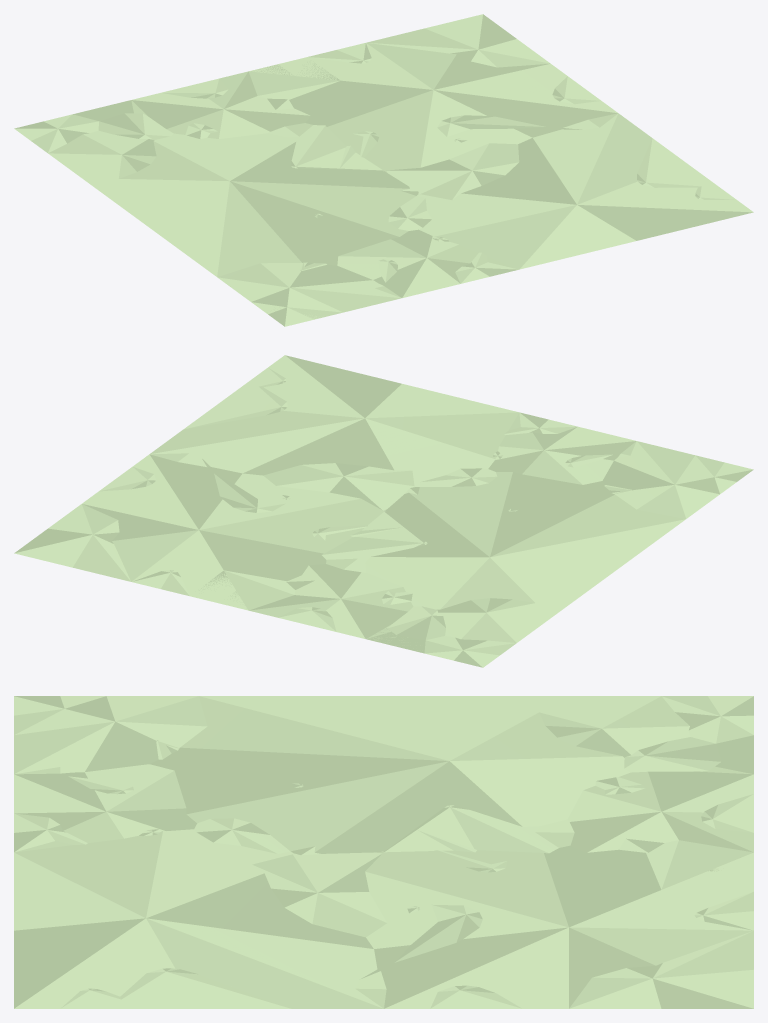
File: Flatland.fbx
3 views of the same model, one above another, from view 1: azimuth 30°, elevation 25°; view 2: azimuth 150°, elevation 25°; view 3: azimuth 270°, elevation 25° (orthographic). The views are drawn at different scales.
Parts seen in each view (by area): view 1: Plain_3, Plain_2, Plain_1; view 2: Plain_3, Plain_2, Plain_1; view 3: Plain_3, Plain_2, Plain_1.
Boxes of the visible parts, x1=… form: Plain_3: x1=73, y1=42, x2=753, y2=277; Plain_2: x1=48, y1=14, x2=719, y2=322; Plain_1: x1=14, y1=43, x2=736, y2=326; Plain_3: x1=82, y1=355, x2=685, y2=653; Plain_2: x1=14, y1=380, x2=719, y2=645; Plain_1: x1=99, y1=368, x2=753, y2=667; Plain_3: x1=14, y1=696, x2=753, y2=1008; Plain_2: x1=14, y1=696, x2=753, y2=1008; Plain_1: x1=14, y1=696, x2=753, y2=1008.
Size of the model in its own units: 50 by 50 by 0.36.
